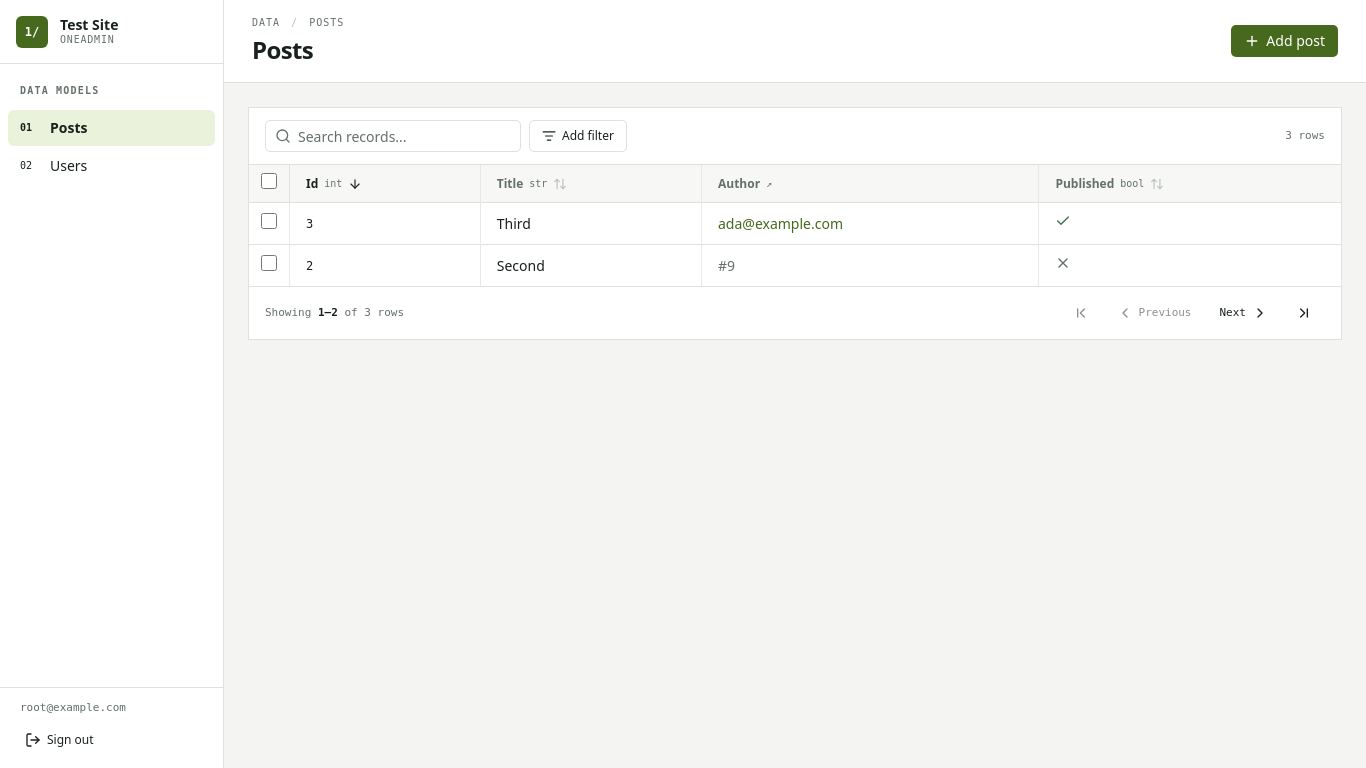
Test: creating › creates from the list's Add button and picks a relation by label
Click the link "Add post".
click(1285, 41)  # box 1231,25 -> 1338,57
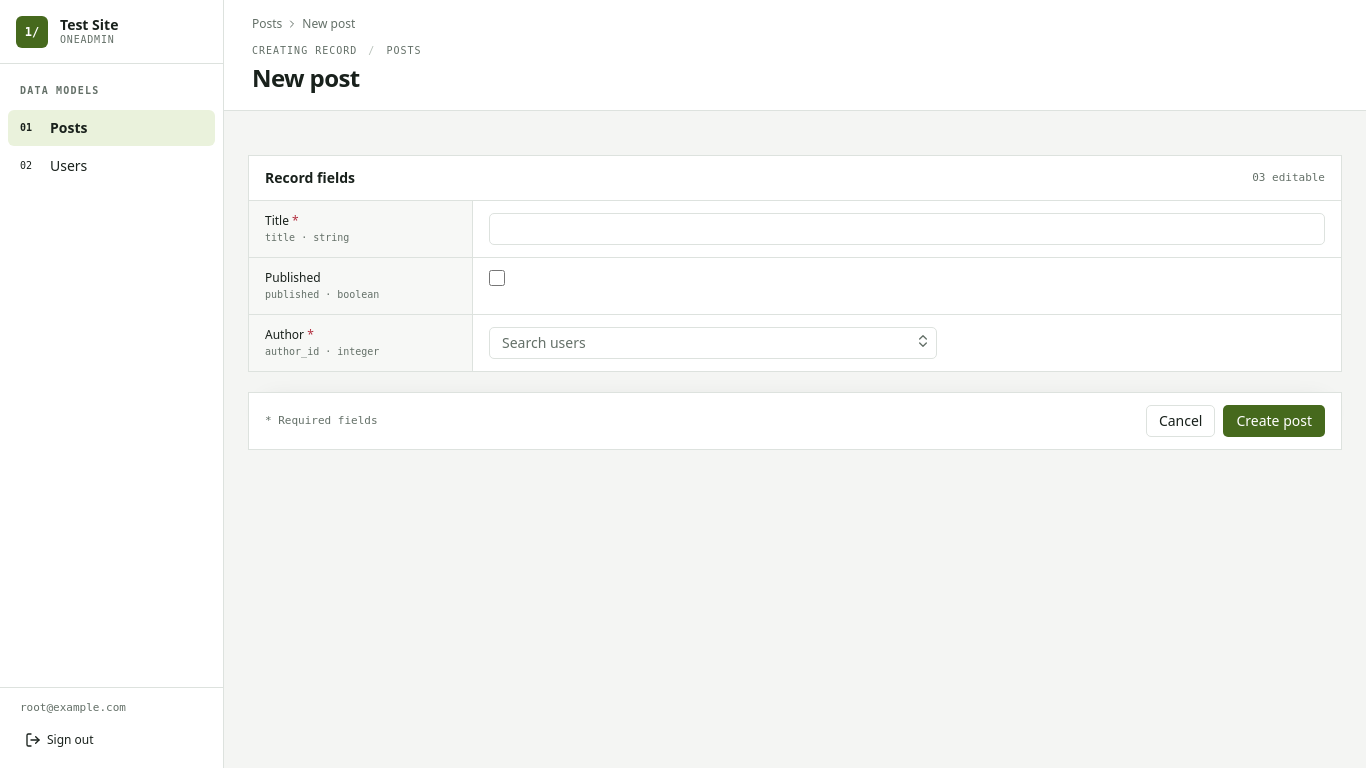
Type "Brand new" into the field labelled "Title *".
click(907, 229); type("Brand new")  # box 489,213 -> 1325,245
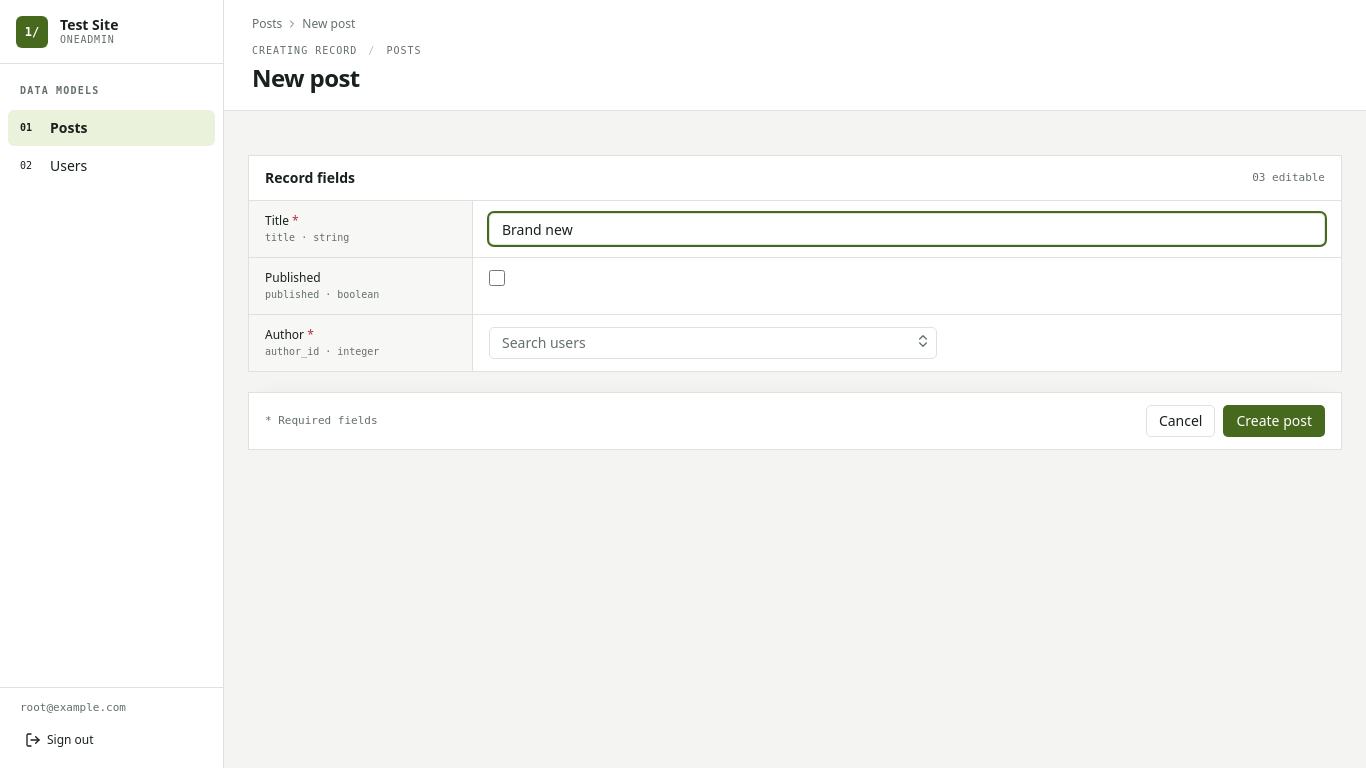
Click the dropdown labelled "Author *".
click(713, 343)  # box 489,327 -> 937,359
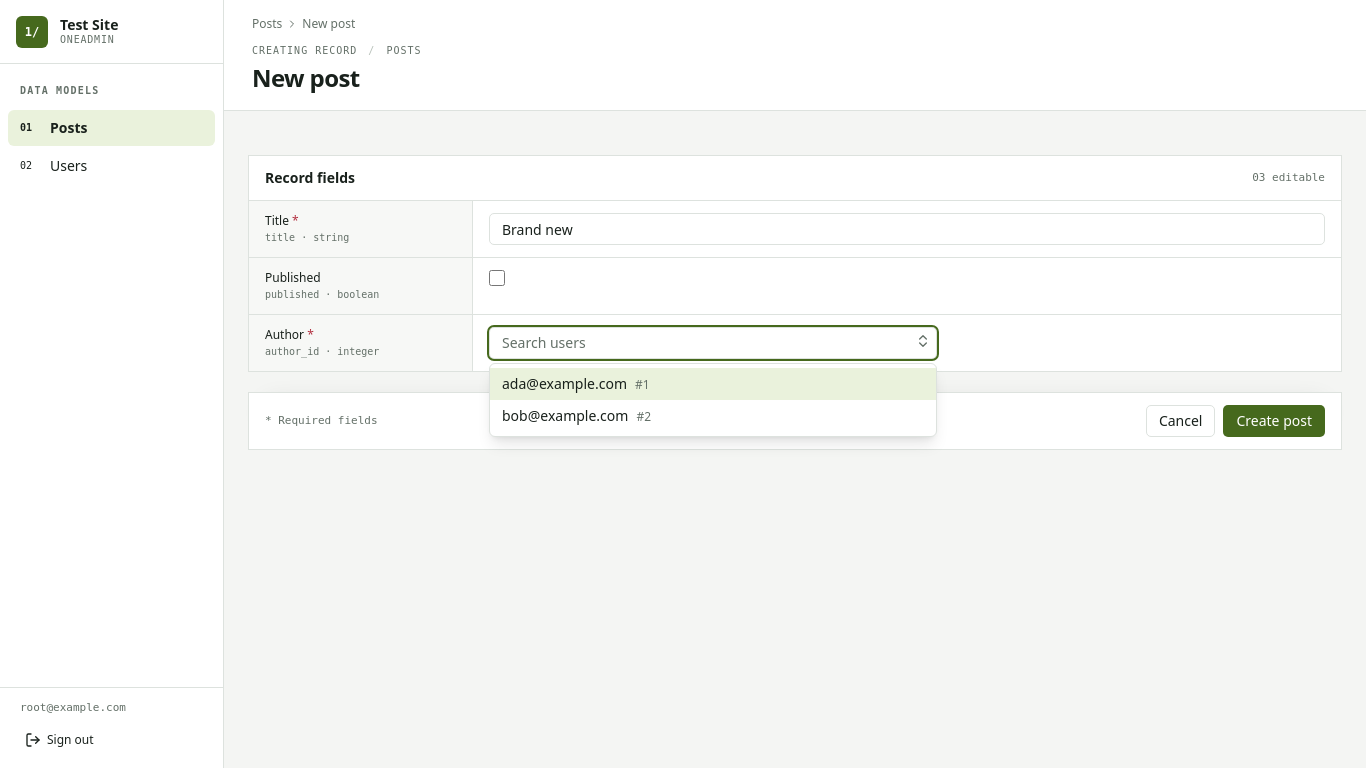
Click the option "bob@example.com#2".
click(576, 415)  # box 502,406 -> 651,425
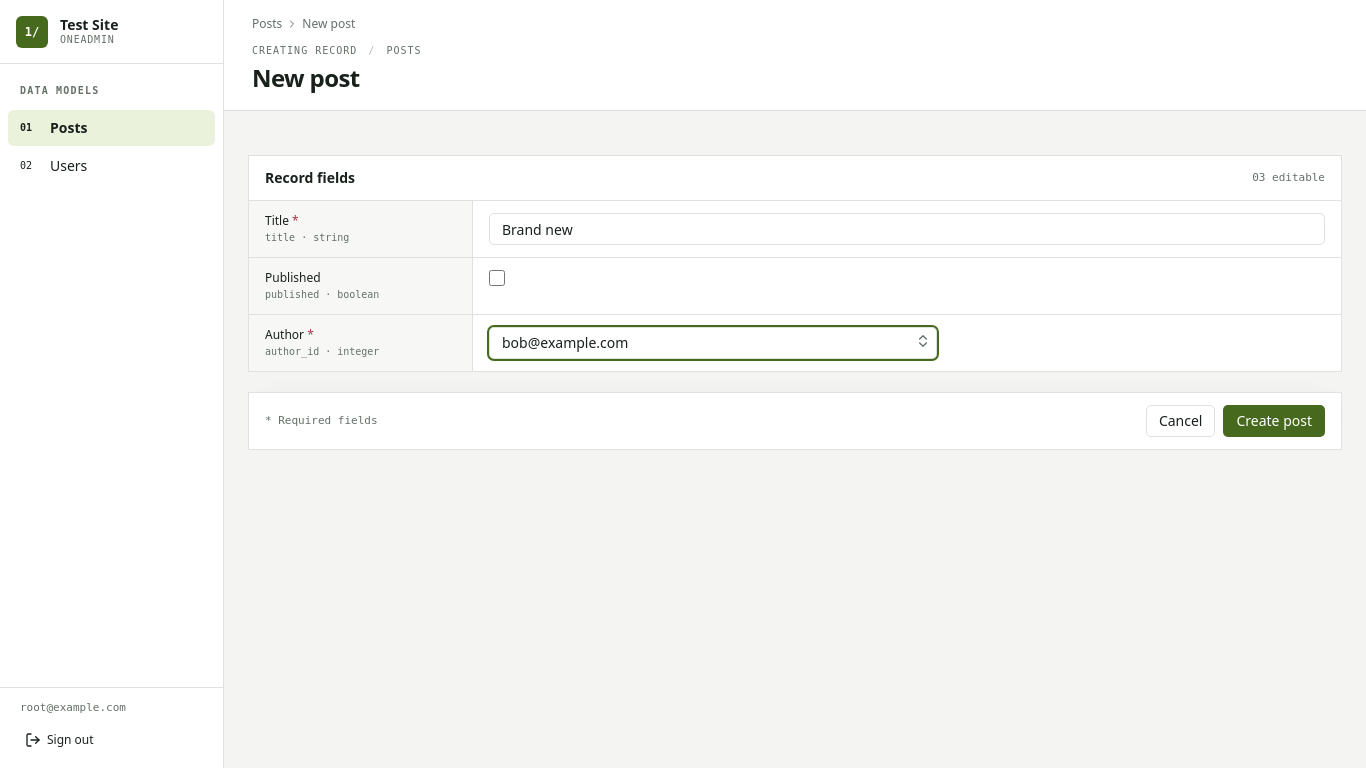
Click the button "Create post".
click(1274, 421)  # box 1224,405 -> 1325,437
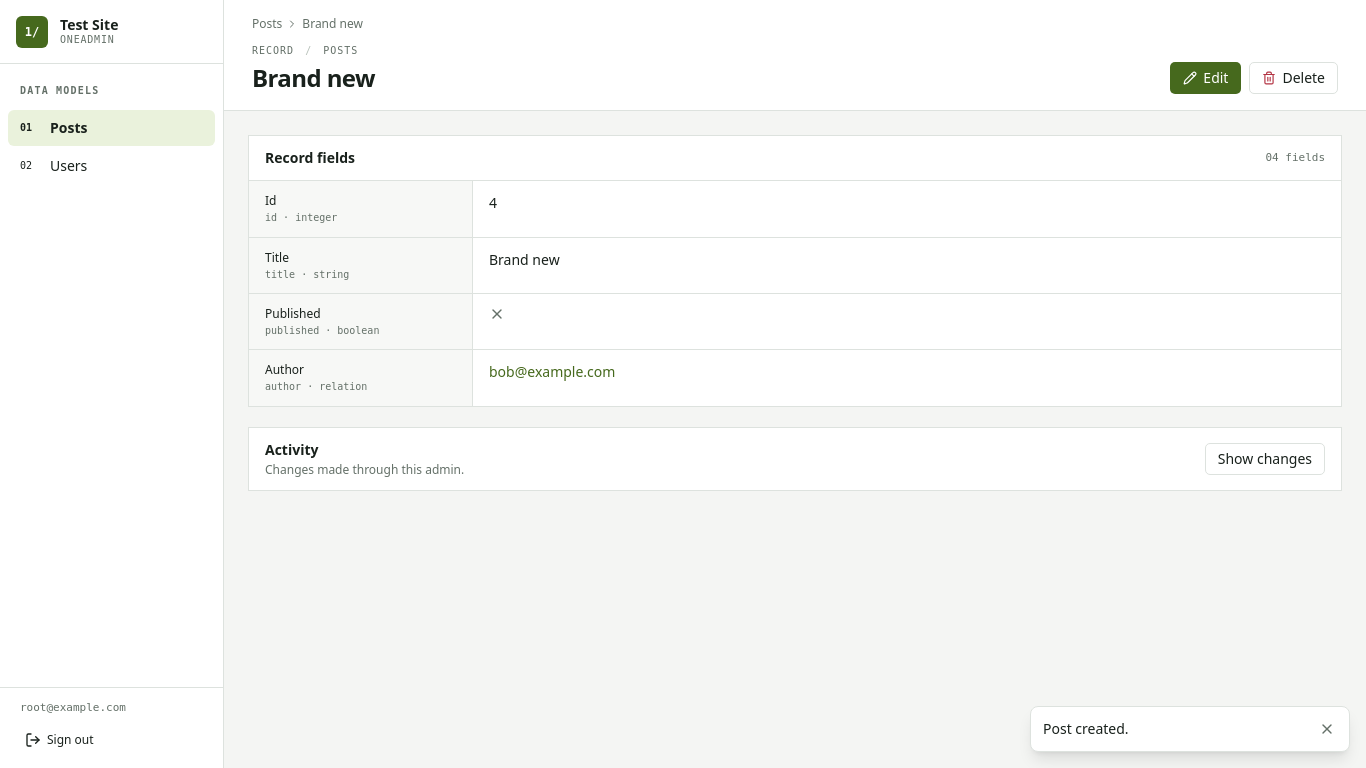
Expected: the heading "Brand new" is shown, 252,62 -> 375,94
